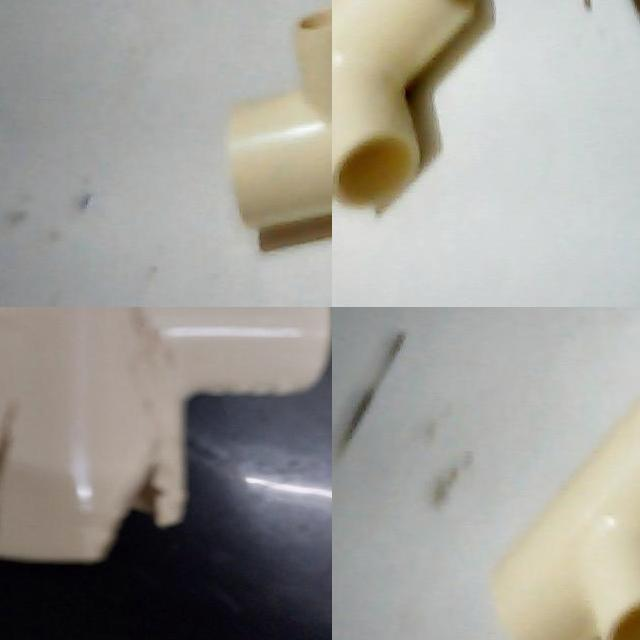Defective: (98, 450, 190, 575), (0, 398, 30, 561)
T Joint: (491, 397, 640, 640), (332, 0, 477, 213), (227, 6, 332, 230)
